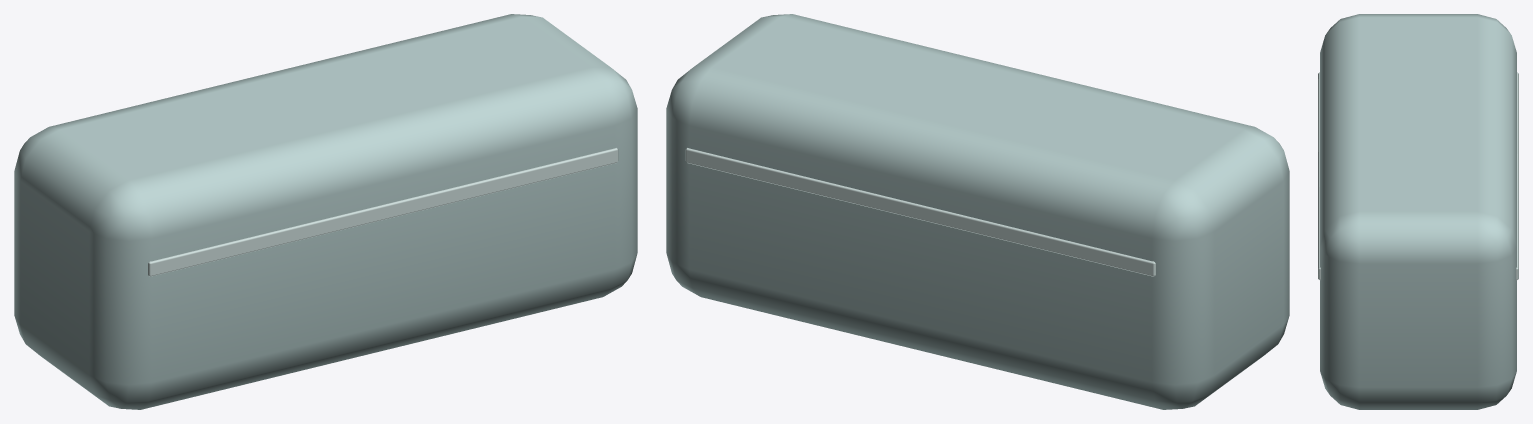
The model's file is cover.glb.
3 renders of one model, left to right at view 1: azimuth 30°, elevation 25°; view 2: azimuth 150°, elevation 25°; view 3: azimuth 270°, elevation 25°, orthographic. The views are drawn at different scales.
Visible parts, largest first — view 1: cover; view 2: cover; view 3: cover.
Part boxes in pixels (x1,y1,x2,y2): cover: (14, 14, 637, 409); cover: (666, 14, 1289, 409); cover: (1318, 14, 1518, 409).
Bounding box in the file's own units: 3 × 1.2 × 1.12.
